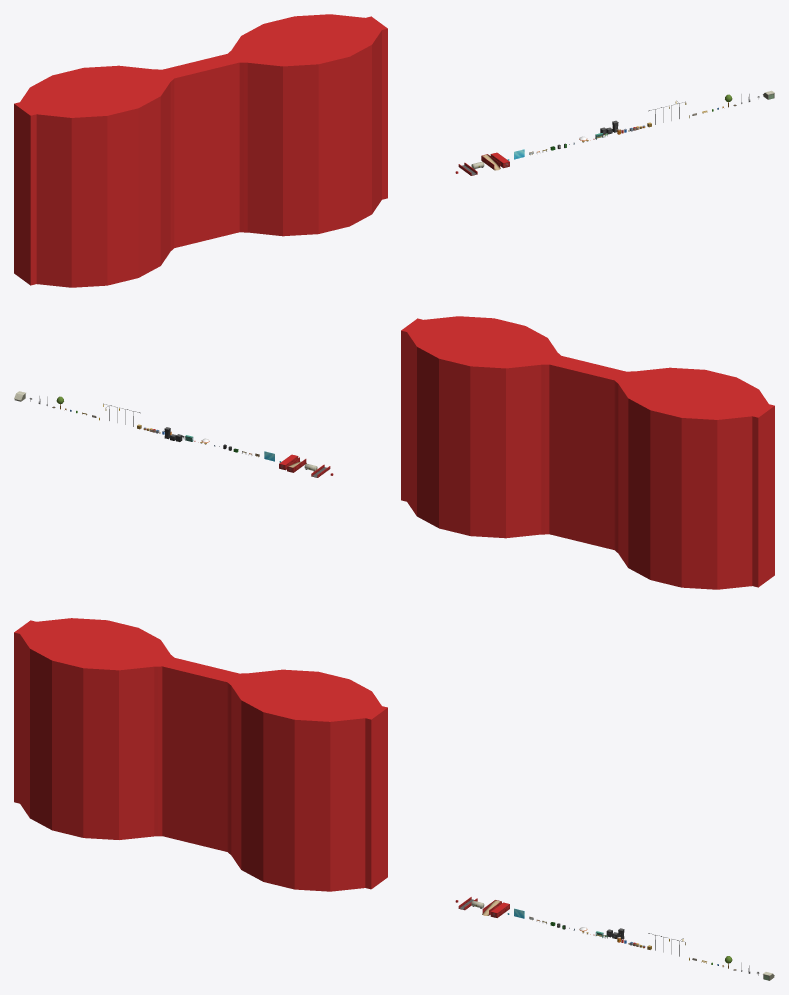
The model's file is Misc.FBX.
3 views of the same model, one above another, from view 1: azimuth 30°, elevation 25°; view 2: azimuth 150°, elevation 25°; view 3: azimuth 330°, elevation 25° (orthographic).
Visible parts, largest first — view 1: InvisibleWallBigBoss; view 2: InvisibleWallBigBoss; view 3: InvisibleWallBigBoss.
Part boxes in pixels (<box>): InvisibleWallBigBoss: <box>14,14,387,287</box>; InvisibleWallBigBoss: <box>401,316,774,589</box>; InvisibleWallBigBoss: <box>14,618,387,891</box>.
Size of the model in its own units: 462 by 101 by 58.92.
